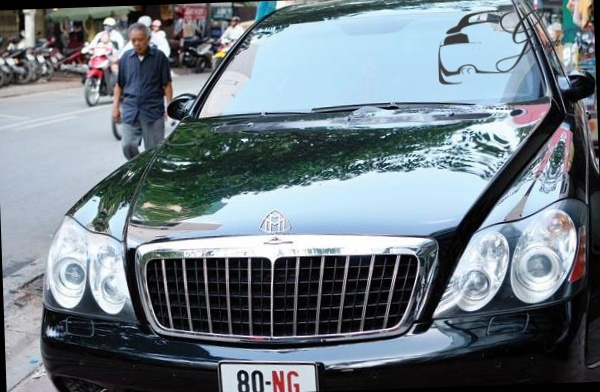plate: (212, 354, 321, 392)
